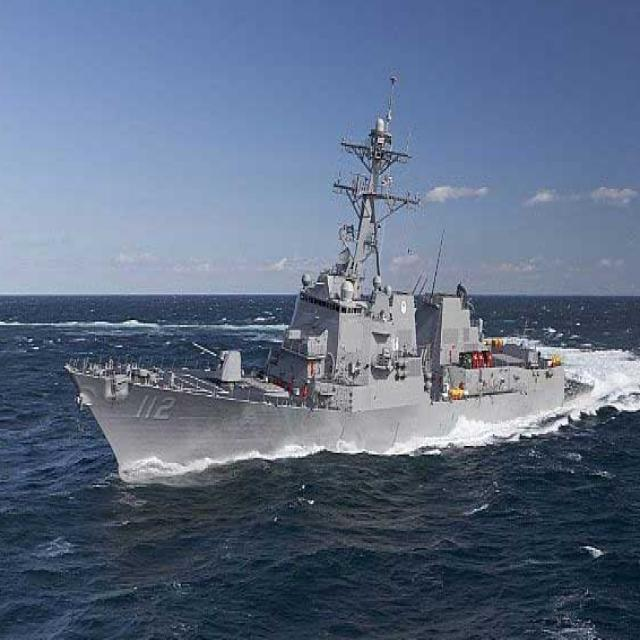navalvessels: (65, 86, 585, 477)
